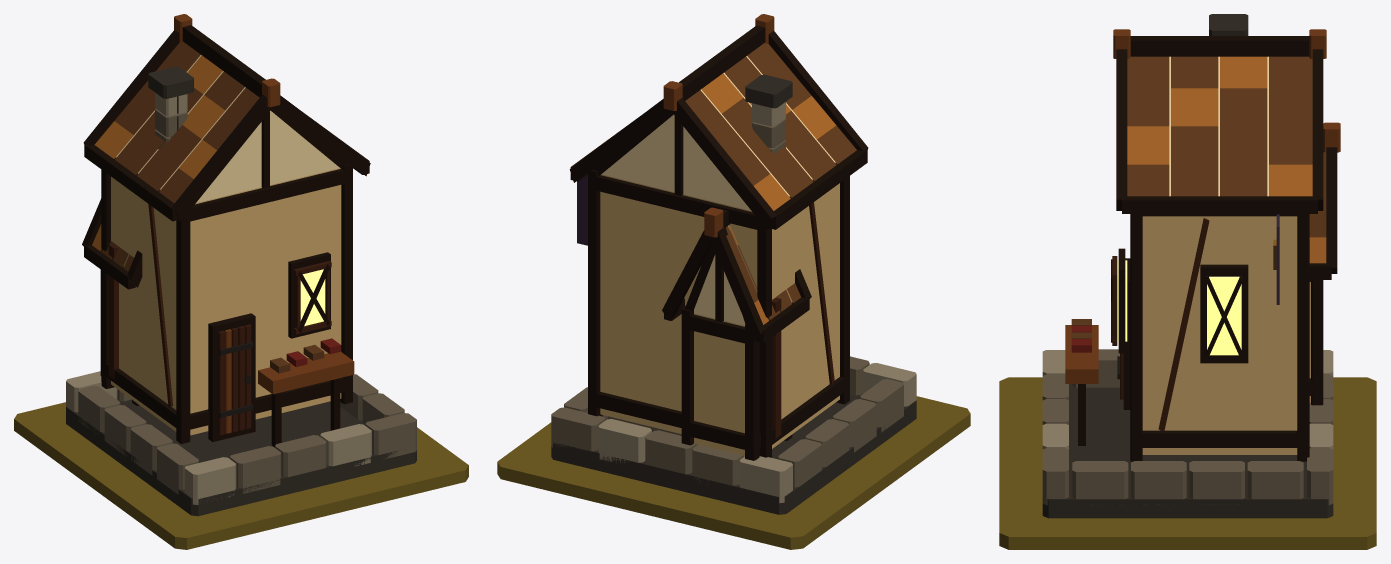
File: scriptorium_t6.glb
3 renders of one model, left to right at view 1: azimuth 30°, elevation 25°; view 2: azimuth 150°, elevation 25°; view 3: azimuth 270°, elevation 25°, orthographic. The views are drawn at different scales.
Visible parts, largest first — view 1: MMR | scriptorium | T06 Architecture.001, MMR | scriptorium | Tier 06 Ground.001; view 2: MMR | scriptorium | T06 Architecture.001, MMR | scriptorium | Tier 06 Ground.001, MMR | scriptorium | T06 Banner Flag 1.001; view 3: MMR | scriptorium | T06 Architecture.001, MMR | scriptorium | Tier 06 Ground.001.
Boxes of the visible parts, bbox=[...] form: MMR | scriptorium | T06 Architecture.001: bbox=[66, 14, 416, 516]; MMR | scriptorium | Tier 06 Ground.001: bbox=[14, 402, 468, 549]; MMR | scriptorium | T06 Architecture.001: bbox=[551, 14, 916, 514]; MMR | scriptorium | Tier 06 Ground.001: bbox=[497, 396, 970, 549]; MMR | scriptorium | T06 Banner Flag 1.001: bbox=[577, 175, 587, 245]; MMR | scriptorium | T06 Architecture.001: bbox=[1042, 14, 1340, 518]; MMR | scriptorium | Tier 06 Ground.001: bbox=[999, 377, 1376, 549].
Bounding box in the file's own units: 1.3 × 1.66 × 1.3.
2 materials, 1 textured.
